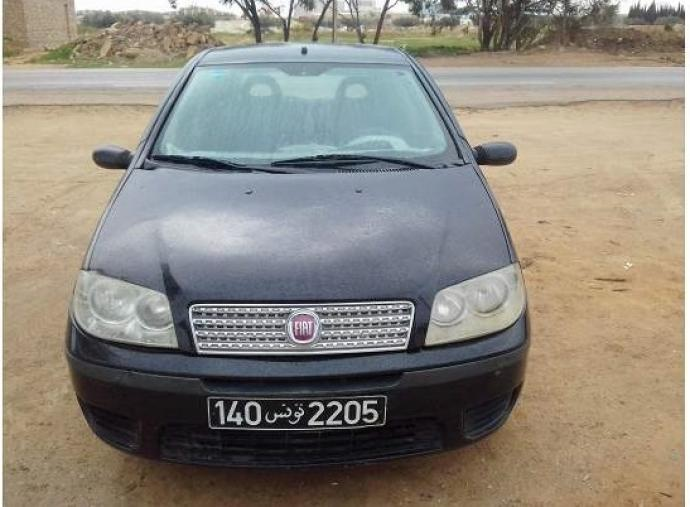LP: (206, 392, 389, 431)
